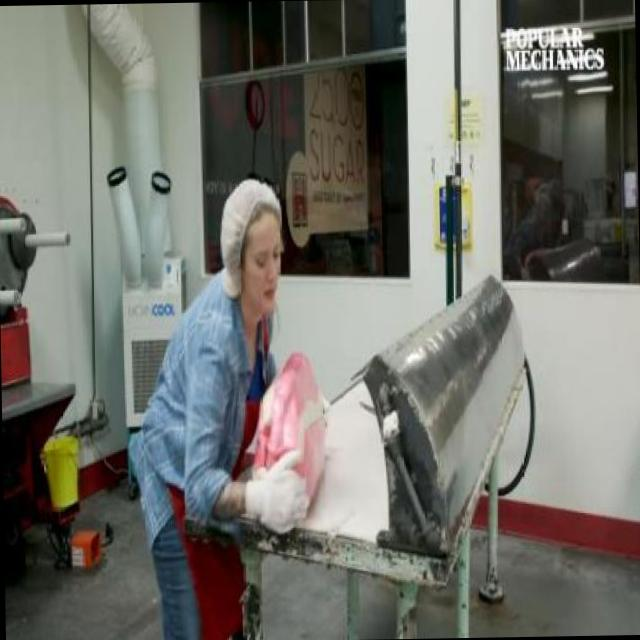hairnet: (224, 180, 278, 268)
